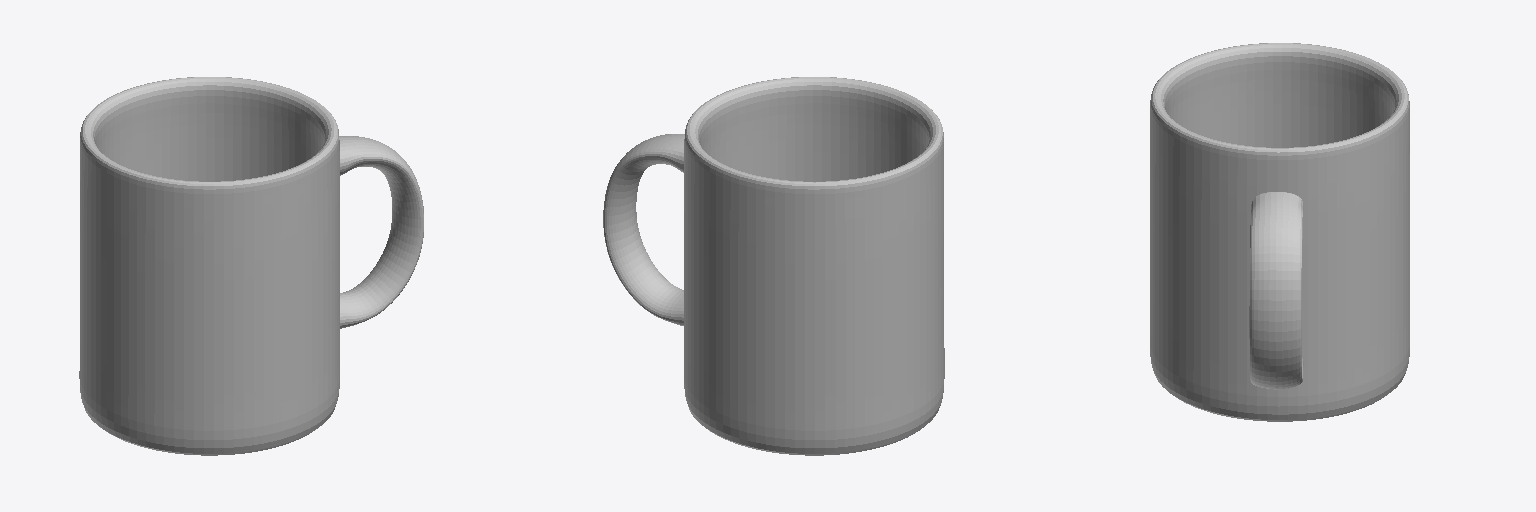
Rendered from coffeMug1_2.obj.
3 renders of one model, left to right at view 1: azimuth 30°, elevation 25°; view 2: azimuth 150°, elevation 25°; view 3: azimuth 270°, elevation 25°, orthographic.
Parts seen in each view (by area): view 1: coffeMug1_free_obj, coffeMug1_free_obj.001; view 2: coffeMug1_free_obj, coffeMug1_free_obj.001; view 3: coffeMug1_free_obj, coffeMug1_free_obj.001.
Boxes of the visible parts, <box> form: coffeMug1_free_obj: <box>79,77,339,455</box>; coffeMug1_free_obj.001: <box>339,136,423,328</box>; coffeMug1_free_obj: <box>684,77,944,455</box>; coffeMug1_free_obj.001: <box>603,134,684,325</box>; coffeMug1_free_obj: <box>1150,43,1409,421</box>; coffeMug1_free_obj.001: <box>1249,192,1303,389</box>.
Bounding box in the file's own units: 49.3 × 40.7 × 34.97.